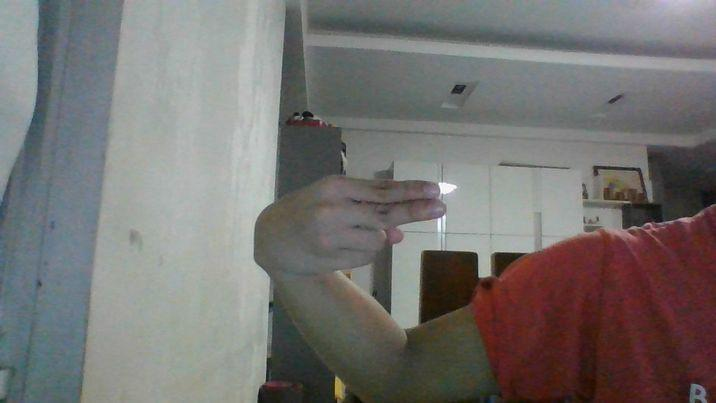h: (253, 173, 447, 275)
